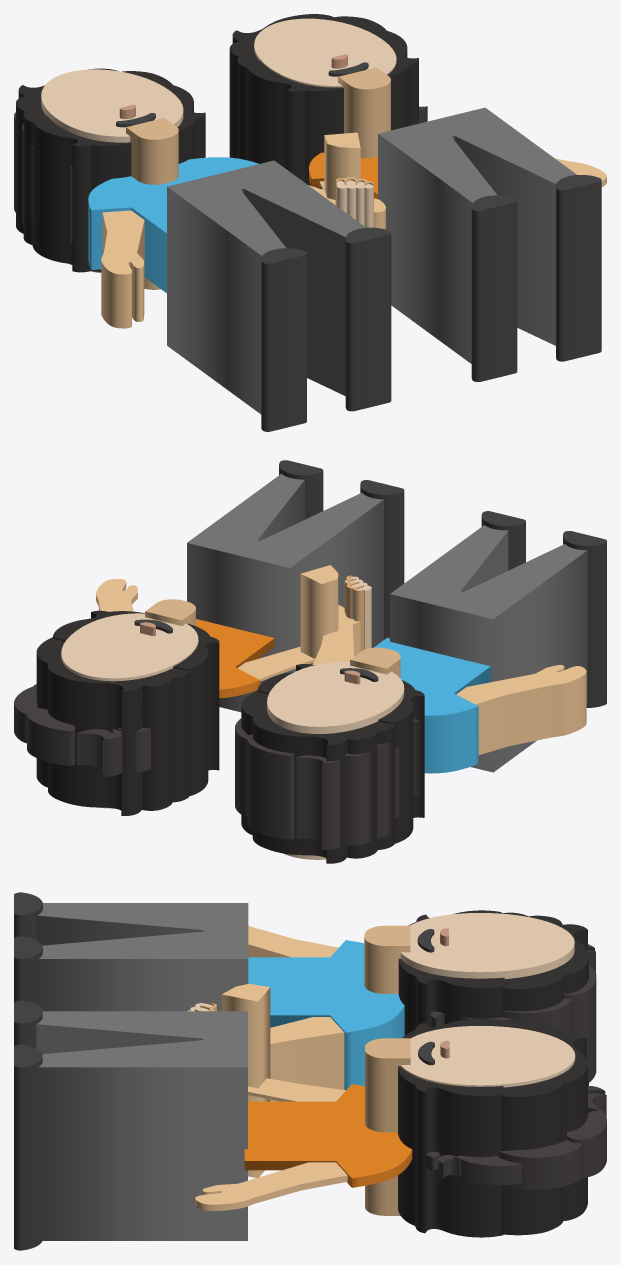
File: emoji_u1f9d1_1f3fb_200d_1f91d_200d_1f9d1_1f3fb.glb
3 renders of one model, top to bottom at view 1: azimuth 30°, elevation 25°; view 2: azimuth 150°, elevation 25°; view 3: azimuth 270°, elevation 25°, orthographic. The views are drawn at different scales.
Visible parts, largest first — view 1: emoji_u1f9d1_1f3fb_200d_1f91d_200d_1f9d1_1f3fb; view 2: emoji_u1f9d1_1f3fb_200d_1f91d_200d_1f9d1_1f3fb; view 3: emoji_u1f9d1_1f3fb_200d_1f91d_200d_1f9d1_1f3fb.
Part boxes in pixels (left/top/right/bottom): emoji_u1f9d1_1f3fb_200d_1f91d_200d_1f9d1_1f3fb: left=14, top=14, right=606, bottom=431; emoji_u1f9d1_1f3fb_200d_1f91d_200d_1f9d1_1f3fb: left=14, top=460, right=606, bottom=863; emoji_u1f9d1_1f3fb_200d_1f91d_200d_1f9d1_1f3fb: left=14, top=892, right=606, bottom=1250.
Size of the model in its own units: 0.0346 by 0.0114 by 0.0335.
